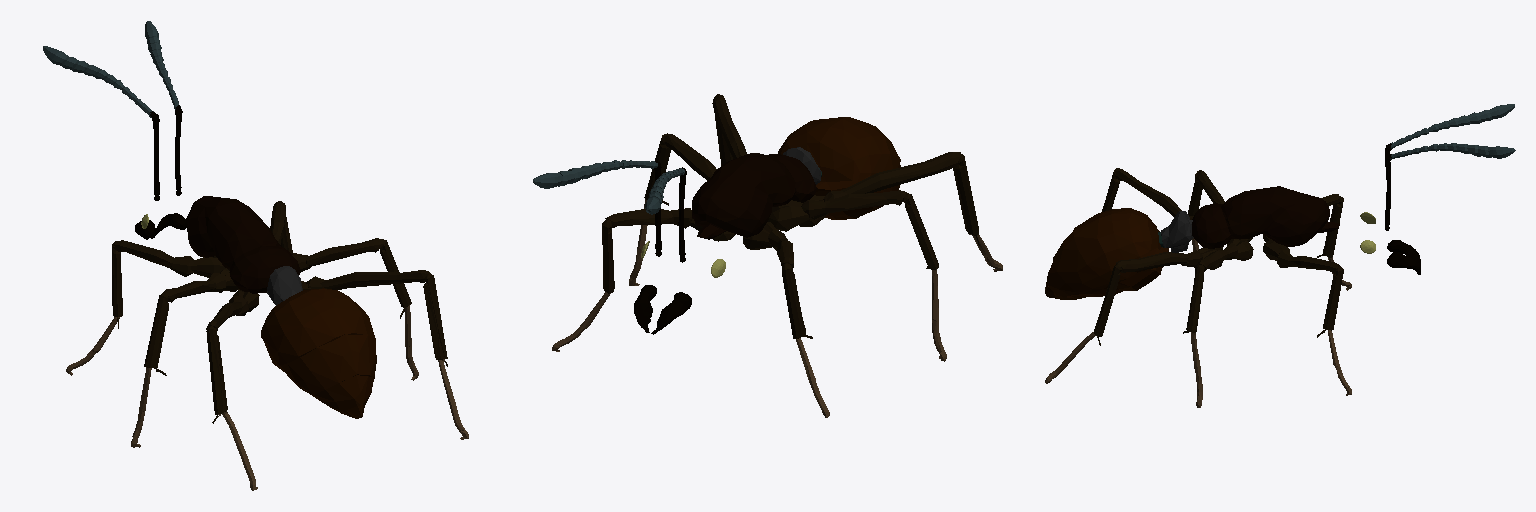
--- What the picture shows (computed from the rendered views, not written in the file) ---
The picture shows the robot from 3 angles, left to right: view 1: azimuth 30°, elevation 25°; view 2: azimuth 150°, elevation 25°; view 3: azimuth 270°, elevation 25°; orthographic projection.
Model ant with 44 links and 43 joints (18 revolute, 25 fixed), rooted at base_link, posed all joints at 0.
Visible links, largest first — view 1: gaster, thorax, femur_r_r, flagellum_l, tibia_r_l, tibia_r_r, tibia_m_l, petiole, femur_m_r, flagellum_r, femur_f_l, tibia_f_l (+3 smaller); view 2: thorax, gaster, femur_r_l, flagellum_r, femur_m_l, tibia_r_l, tibia_f_l, femur_r_r, femur_m_r, tibia_m_l, cox_m_l, femur_f_r (+6 smaller); view 3: gaster, thorax, flagellum_l, flagellum_r, petiole, femur_r_r, femur_r_l, tibia_r_r, tibia_m_r, tibia_f_r.
Boxes of the visible links, x1,y1,x2,y2 form: gaster: [261, 288, 376, 418]; thorax: [186, 196, 300, 293]; femur_r_r: [320, 270, 429, 289]; flagellum_l: [43, 46, 153, 117]; tibia_r_l: [206, 326, 227, 423]; tibia_r_r: [423, 273, 447, 366]; tibia_m_l: [144, 293, 169, 375]; petiole: [267, 266, 302, 305]; femur_m_r: [306, 238, 382, 265]; flagellum_r: [145, 21, 180, 109]; femur_f_l: [114, 240, 173, 267]; tibia_f_l: [112, 241, 122, 328]; thorax: [692, 153, 816, 239]; gaster: [778, 117, 900, 219]; femur_r_l: [841, 152, 960, 194]; flagellum_r: [533, 160, 657, 188]; femur_m_l: [824, 190, 906, 213]; tibia_r_l: [953, 154, 979, 245]; tibia_f_l: [782, 263, 812, 338]; femur_r_r: [712, 94, 746, 158]; femur_m_r: [665, 133, 716, 180]; tibia_m_l: [903, 193, 938, 269]; cox_m_l: [768, 200, 813, 231]; femur_f_r: [605, 209, 673, 227]; gaster: [1045, 208, 1168, 299]; thorax: [1192, 186, 1339, 248]; flagellum_l: [1391, 104, 1514, 148]; flagellum_r: [1390, 143, 1515, 159]; petiole: [1161, 211, 1193, 252]; femur_r_r: [1116, 252, 1188, 272]; femur_r_l: [1115, 168, 1181, 216]; tibia_r_r: [1094, 264, 1121, 345]; tibia_m_r: [1183, 265, 1204, 333]; tibia_f_r: [1317, 266, 1343, 337].
Size in the robot's own frame: 18.31 by 29.37 by 15.19 metres.
Meshes: 43 distinct files referenced, 42 mesh visuals loaded (42 Collada DAE); not drawn: 1 (reference not matched to a file when rendering).

The robot description file, URDF, robot "ant":
<?xml version="1.0" encoding="utf-8"?>
<!-- =================================================================================== -->
<!-- |    This document was autogenerated by xacro from ant.xacro                      | -->
<!-- |    EDITING THIS FILE BY HAND IS NOT RECOMMENDED                                 | -->
<!-- =================================================================================== -->
<robot name="ant" xmlns:xacro="http://www.ros.org/wiki/xacro">
  <!-- rviz wont work with these xacros unless given as urdf

  <xacro:include filename="$(find ant_description)/urdf/ant_main_body.xacro"/>

  <xacro:include filename="$(find ant_description)/urdf/ant_leg_l_f.xacro" />

  <xacro:include filename="$(find ant_description)/urdf/ant_leg_r_f.xacro" /> -->
  <link name="base_link"/>
  <joint name="ant_attachment" type="fixed">
    <parent link="base_link"/>
    <child link="thorax"/>
    <origin rpy="0 0 0" xyz="0 0 0"/>
  </joint>
  <!-- thorax link -->
  <link name="thorax">
    <collision>
      <origin rpy="0 0 0" xyz="0.02495771 4.745264 0.9420236"/>
      <geometry>
        <mesh filename="package://ant_description/meshes/thorax.dae"/>
      </geometry>
    </collision>
    <visual>
      <origin rpy="0 0 0" xyz="0.02495771 4.745264 0.9420236"/>
      <geometry>
        <mesh filename="package://ant_description/meshes/thorax.dae"/>
      </geometry>
    </visual>
    <inertial>
      <origin rpy="0 0 0" xyz="-0.04847949 5.0895386 1.30014761"/>
      <mass value="40"/>
      <inertia ixx="2.1574865398e+02" ixy="-1.5499513134e-01" ixz="-4.3375096425e-02" iyy="5.3331719151e+01" iyz="-1.7571679462e+01" izz="2.2341557491e+02"/>
    </inertial>
  </link>
  <!-- head link -->
  <link name="head">
    <collision>
      <origin rpy="0 0 0" xyz="8.69815e-4 11.79549 -0.03817248"/>
      <geometry>
        <mesh filename="package://ant_description/meshes/head.dae"/>
      </geometry>
    </collision>
    <visual>
      <origin rpy="0 0 0" xyz="8.69815e-4 11.79549 -0.03817248"/>
      <geometry>
        <mesh filename="package://ant_description/meshes/head.dae"/>
      </geometry>
    </visual>
    <inertial>
      <origin rpy="0 0 0" xyz="0.001631625 11.33051132 0.00357429"/>
      <mass value="30"/>
      <inertia ixx="6.1372709332e+01" ixy="-2.4209532812e-02" ixz="-2.7104785800e-04" iyy="6.3649281062e+01" iyz="7.1256139380e+00" izz="8.1137643143e+01"/>
    </inertial>
  </link>
  <joint name="thorax_head" type="fixed">
    <parent link="thorax"/>
    <child link="head"/>
  </joint>
  <!-- eye left link -->
  <link name="eye_l">
    <collision>
      <origin rpy="0 0 0" xyz="-2.086435 11.59313 0.2650509"/>
      <geometry>
        <mesh filename="package://ant_description/meshes/eye_l.dae"/>
      </geometry>
    </collision>
    <visual>
      <origin rpy="0 0 0" xyz="-2.086435 11.59313 0.2650509"/>
      <geometry>
        <mesh filename="package://ant_description/meshes/eye_l.dae"/>
      </geometry>
    </visual>
    <inertial>
      <origin rpy="0 0 0" xyz="-2.09985028 11.5658733 0.2633888"/>
      <mass value="0.1"/>
      <inertia ixx="8.1670536945e-03" ixy="-1.0827793204e-03" ixz="-6.1851114941e-04" iyy="4.3301748852e-03" iyz="1.0580506602e-03" izz="5.3558668918e-03"/>
    </inertial>
  </link>
  <joint name="head_eye_l" type="fixed">
    <parent link="head"/>
    <child link="eye_l"/>
  </joint>
  <!-- eye right link -->
  <link name="eye_r">
    <collision>
      <origin rpy="0 0 0" xyz="2.086435 11.59313 0.2650509"/>
      <geometry>
        <mesh filename="package://ant_description/meshes/eye_r.dae"/>
      </geometry>
    </collision>
    <visual>
      <origin rpy="0 0 0" xyz="2.086435 11.59313 0.2650509"/>
      <geometry>
        <mesh filename="package://ant_description/meshes/eye_r.dae"/>
      </geometry>
    </visual>
    <inertial>
      <origin rpy="0 0 0" xyz="2.09985028 11.5658733 0.2633888"/>
      <mass value="0.1"/>
      <inertia ixx="8.1670536945e-03" ixy="1.0827793204e-03" ixz="6.1851114941e-04" iyy="4.3301748852e-03" iyz="1.0580506602e-03" izz="5.3558668918e-03"/>
    </inertial>
  </link>
  <joint name="head_eye_r" type="fixed">
    <parent link="head"/>
    <child link="eye_r"/>
  </joint>
  <!-- mandible left link -->
  <link name="mandible_l">
    <collision>
      <origin rpy="0 0 0" xyz="-0.7011991 14.09823 -1.611525"/>
      <geometry>
        <mesh filename="package://ant_description/meshes/mandible_l.dae"/>
      </geometry>
    </collision>
    <visual>
      <origin rpy="0 0 0" xyz="-0.7011991 14.09823 -1.611525"/>
      <geometry>
        <mesh filename="package://ant_description/meshes/mandible_l.dae"/>
      </geometry>
    </visual>
    <inertial>
      <origin rpy="0 0 0" xyz="-0.86942116 13.87568539 -1.37582832"/>
      <mass value="2"/>
      <inertia ixx="7.8456193792e-01" ixy="-1.4599019459e-01" ixz="7.6754512807e-02" iyy="3.4250524949e-01" iyz="2.4175056959e-01" izz="6.9996140900e-01"/>
    </inertial>
  </link>
  <joint name="head_mandible_l" type="fixed">
    <parent link="head"/>
    <child link="mandible_l"/>
  </joint>
  <!-- mandible right link -->
  <link name="mandible_r">
    <collision>
      <origin rpy="0 0 0" xyz="0.6943221 14.09485 -1.611031"/>
      <geometry>
        <mesh filename="package://ant_description/meshes/mandible_r.dae"/>
      </geometry>
    </collision>
    <visual>
      <origin rpy="0 0 0" xyz="0.6943221 14.09485 -1.611031"/>
      <geometry>
        <mesh filename="package://ant_description/meshes/mandible_r.dae"/>
      </geometry>
    </visual>
    <inertial>
      <origin rpy="0 0 0" xyz="0.86872115 13.88107856 -1.37675615"/>
      <mass value="2"/>
      <inertia ixx="7.8798881204e-01" ixy="1.4663016648e-01" ixz="-7.7675343261e-02" iyy="3.4399652201e-01" iyz="2.4333456699e-01" izz="7.0252290959e-01"/>
    </inertial>
  </link>
  <joint name="head_mandible_r" type="fixed">
    <parent link="head"/>
    <child link="mandible_r"/>
  </joint>
  <!-- scape left link -->
  <link name="scape_l">
    <collision>
      <origin rpy="0 0 0" xyz="-0.7057881 12.91887 2.897474"/>
      <geometry>
        <mesh filename="package://ant_description/meshes/scape_l.dae"/>
      </geometry>
    </collision>
    <visual>
      <origin rpy="0 0 0" xyz="-0.7057881 12.91887 2.897474"/>
      <geometry>
        <mesh filename="package://ant_description/meshes/scape_l.dae"/>
      </geometry>
    </visual>
    <inertial>
      <origin rpy="0 0 0" xyz="-0.6883985 12.92029373 3.50715658"/>
      <mass value="1"/>
      <inertia ixx="2.5604631038e+00" ixy="6.4000983445e-05" ixz="3.2063305260e-02" iyy="2.5604688552e+00" iyz="-1.8403728408e-02" izz="1.2729953144e-02"/>
    </inertial>
  </link>
  <joint name="head_scape_l" type="fixed">
    <parent link="head"/>
    <child link="scape_l"/>
  </joint>
  <!-- scape right link -->
  <link name="scape_r">
    <collision>
      <origin rpy="0 0 0" xyz="0.7057881 12.91887 2.897474"/>
      <geometry>
        <mesh filename="package://ant_description/meshes/scape_r.dae"/>
      </geometry>
    </collision>
    <visual>
      <origin rpy="0 0 0" xyz="0.7057881 12.91887 2.897474"/>
      <geometry>
        <mesh filename="package://ant_description/meshes/scape_r.dae"/>
      </geometry>
    </visual>
    <inertial>
      <origin rpy="0 0 0" xyz="0.6883985 12.92029373 3.50715658"/>
      <mass value="1"/>
      <inertia ixx="2.5604631038e+00" ixy="-6.4000983445e-05" ixz="-3.2063305260e-02" iyy="2.5604688552e+00" iyz="-1.8403728408e-02" izz="1.2729953144e-02"/>
    </inertial>
  </link>
  <joint name="head_scape_r" type="fixed">
    <parent link="head"/>
    <child link="scape_r"/>
  </joint>
  <!-- flagellum left link -->
  <link name="flagellum_l">
    <collision>
      <origin rpy="0 0 0" xyz="-1.797092 16.61842 6.703302"/>
      <geometry>
        <mesh filename="package://ant_description/meshes/flagellum_l.dae"/>
      </geometry>
    </collision>
    <visual>
      <origin rpy="0 0 0" xyz="-1.797092 16.61842 6.703302"/>
      <geometry>
        <mesh filename="package://ant_description/meshes/flagellum_l.dae"/>
      </geometry>
    </visual>
    <inertial>
      <origin rpy="0 0 0" xyz="-2.20728987 17.81900304 6.88739471"/>
      <mass value="1"/>
      <inertia ixx="3.4224216162e+00" ixy="1.1857649365e+00" ixz="1.6013126420e-01" iyy="5.5349493096e-01" iyz="-4.6648290182e-01" izz="3.7783553220e+00"/>
    </inertial>
  </link>
  <joint name="scape_flagellum_l" type="fixed">
    <parent link="scape_l"/>
    <child link="flagellum_l"/>
  </joint>
  <!-- flagellum right link -->
  <link name="flagellum_r">
    <collision>
      <origin rpy="0 0 0" xyz="1.797092 16.61842 6.703302"/>
      <geometry>
        <mesh filename="package://ant_description/meshes/flagellum_r.dae"/>
      </geometry>
    </collision>
    <visual>
      <origin rpy="0 0 0" xyz="1.797092 16.61842 6.703302"/>
      <geometry>
        <mesh filename="package://ant_description/meshes/flagellum_r.dae"/>
      </geometry>
    </visual>
    <inertial>
      <origin rpy="0 0 0" xyz="2.20728987 17.81900304 6.88739471"/>
      <mass value="1"/>
      <inertia ixx="3.4224216162e+00" ixy="-1.1857649365e+00" ixz="-1.6013126420e-01" iyy="5.5349493096e-01" iyz="-4.6648290182e-01" izz="3.7783553220e+00"/>
    </inertial>
  </link>
  <joint name="scape_flagellum_r" type="fixed">
    <parent link="scape_r"/>
    <child link="flagellum_r"/>
  </joint>
  <!-- petiole link -->
  <link name="petiole">
    <collision>
      <origin rpy="0 0 0" xyz="0.01740854 0.07322531 0.2697668"/>
      <geometry>
        <mesh filename="package://ant_description/meshes/petiole.dae"/>
      </geometry>
    </collision>
    <visual>
      <origin rpy="0 0 0" xyz="0.01740854 0.07322531 0.2697668"/>
      <geometry>
        <mesh filename="package://ant_description/meshes/petiole.dae"/>
      </geometry>
    </visual>
    <inertial>
      <origin rpy="0 0 0" xyz="0.00561879 0.00296973 0.28649062"/>
      <mass value="5"/>
      <inertia ixx="2.7897944003e+00" ixy="3.5781084256e-03" ixz="-3.2402220006e-03" iyy="2.5550380430e+00" iyz="-4.0086618959e-01" izz="2.0464923935e+00"/>
    </inertial>
  </link>
  <joint name="thorax_petiole" type="fixed">
    <parent link="thorax"/>
    <child link="petiole"/>
  </joint>
  <!-- node link -->
  <link name="node">
    <collision>
      <origin rpy="0 0 0" xyz="-0.006898105 -1.105468 -0.2202131"/>
      <geometry>
        <mesh filename="package://ant_description/meshes/node.dae"/>
      </geometry>
    </collision>
    <visual>
      <origin rpy="0 0 0" xyz="-0.006898105 -1.105468 -0.2202131"/>
      <geometry>
        <mesh filename="package://ant_description/meshes/node.dae"/>
      </geometry>
    </visual>
    <inertial>
      <origin rpy="0 0 0" xyz="-0.011776415 -1.10854547 -0.22971905"/>
      <mass value="2"/>
      <inertia ixx="3.5458615208e-01" ixy="-4.6808282018e-04" ixz="2.2591796230e-03" iyy="2.1462833835e-01" iyz="-6.3565631669e-04" izz="3.8425372799e-01"/>
    </inertial>
  </link>
  <joint name="petiole_node" type="fixed">
    <parent link="petiole"/>
    <child link="node"/>
  </joint>
  <!-- gaster link -->
  <link name="gaster">
    <collision>
      <origin rpy="0 0 0" xyz="-0.003080308 -4.342331 -1.633749"/>
      <geometry>
        <mesh filename="package://ant_description/meshes/gaster.dae"/>
      </geometry>
    </collision>
    <visual>
      <origin rpy="0 0 0" xyz="-0.003080308 -4.342331 -1.633749"/>
      <geometry>
        <mesh filename="package://ant_description/meshes/gaster.dae"/>
      </geometry>
    </visual>
    <inertial>
      <origin rpy="0 0 0" xyz="-0.007536868 -4.24358572 -1.27920505"/>
      <mass value="35"/>
        CHANGED to 35 from 50
      
      <inertia ixx="1.5049922562e+02" ixy="3.3508063294e-03" ixz="1.7003903286e-02" iyy="1.1459202296e+02" iyz="-2.2113997039e+01" izz="1.5439307293e+02"/>
    </inertial>
  </link>
  <joint name="node_gaster" type="fixed">
    <parent link="node"/>
    <child link="gaster"/>
  </joint>
  <!-- cox front left link -->
  <link name="cox_f_l">
    <collision>
      <origin rpy="0 0 0" xyz="-0.5 0 0"/>
      <geometry>
        <mesh filename="package://ant_description/meshes/cox_f_l.dae"/>
      </geometry>
    </collision>
    <visual>
      <origin rpy="0 0 0" xyz="-0.5 0 0"/>
      <geometry>
        <mesh filename="package://ant_description/meshes/cox_f_l.dae"/>
      </geometry>
    </visual>
    <inertial>
      <origin rpy="0 0 0" xyz="-0.48765049  1.6566350000e-02 -1.5535011000e-01"/>
      <mass value="3"/>
      <inertia ixx="7.5768846297e-01" ixy="1.7005788603e-01" ixz="5.7852710942e-03" iyy="1.1727972097e+00" iyz="5.6909853774e-02" izz="1.2224152912e+00"/>
    </inertial>
  </link>
  <joint name="j_1_f_l" type="revolute">
    <parent link="thorax"/>
    <child link="cox_f_l"/>
    <origin rpy="0 0 0" xyz="-0.672313 5.942684 -0.2417362"/>
    <axis xyz="0 0 1"/>
    <limit effort="10000" lower="-0.4" upper="0.6" velocity="10000"/>
    <dynamics friction="500"/>
  </joint>
  <!-- trochanter front left link -->
  <link name="trochanter_f_l">
    <collision>
      <origin rpy="0 0 0" xyz="-0.6 0 0"/>
      <geometry>
        <mesh filename="package://ant_description/meshes/trochanter_f_l.dae"/>
      </geometry>
    </collision>
    <visual>
      <origin rpy="0 0 0" xyz="-0.6 0 0"/>
      <geometry>
        <mesh filename="package://ant_description/meshes/trochanter_f_l.dae"/>
      </geometry>
    </visual>
    <inertial>
      <origin rpy="0 0 0" xyz="-0.77043483 -3.2823050000e-02  4.9396100000e-03"/>
      <mass value="1"/>
      <inertia ixx="1.1496440267e-01" ixy="3.4858491007e-02" ixz="1.4360769641e-03" iyy="1.4220481517e-01" iyz="-1.1846910889e-02" izz="1.5255737899e-01"/>
    </inertial>
  </link>
  <joint name="j_2_f_l" type="revolute">
    <parent link="cox_f_l"/>
    <child link="trochanter_f_l"/>
    <origin rpy="0 0 0" xyz="-1.265769 0.454099 0.0176258"/>
    <axis xyz="0 1 0"/>
    <limit effort="10000" lower="0" upper="0.6" velocity="10000"/>
    <dynamics friction="500"/>
  </joint>
  <!-- femur front left link -->
  <link name="femur_f_l">
    <collision>
      <origin rpy="0 0 0" xyz="-1.949923 1.783526 0.32062271"/>
      <geometry>
        <mesh filename="package://ant_description/meshes/femur_f_l.dae"/>
      </geometry>
    </collision>
    <visual>
      <origin rpy="0 0 0" xyz="-1.949923 1.783526 0.32062271"/>
      <geometry>
        <mesh filename="package://ant_description/meshes/femur_f_l.dae"/>
      </geometry>
    </visual>
    <inertial>
      <origin rpy="0 0 0" xyz="-0.5579356 -1.0128977000e-01  2.5225760000e-02"/>
      <mass value="5"/>
      <inertia ixx="3.6197642457e+00" ixy="2.1775364163e+00" ixz="3.8242520797e-01" iyy="1.8778697845e+00" iyz="-5.2415364462e-01" izz="5.0117853596e+00"/>
    </inertial>
  </link>
  <joint name="trochanter_femur_f_l" type="fixed">
    <parent link="trochanter_f_l"/>
    <child link="femur_f_l"/>
  </joint>
  <!-- tibia front left link -->
  <link name="tibia_f_l">
    <collision>
      <origin rpy="0 0 -0.523599" xyz="0 0 -1.3"/>
      <geometry>
        <mesh filename="package://ant_description/meshes/tibia_f_l.dae"/>
      </geometry>
    </collision>
    <visual>
      <origin rpy="0 0 -0.523599" xyz="0 0 -1.3"/>
      <geometry>
        <mesh filename="package://ant_description/meshes/tibia_f_l.dae"/>
      </geometry>
    </visual>
    <inertial>
      <origin rpy="0 0 -0.523599" xyz="-3.7722210000e-02 -6.1037620000e-02 -1.79721931"/>
      <mass value="4"/>
      <inertia ixx="5.6769505167e+00" ixy="-9.1392209980e-02" ixz="-4.1384680225e-01" iyy="5.5128989027e+00" iyz="-9.6529489518e-01" izz="3.8081446228e-01"/>
    </inertial>
  </link>
  <joint name="j_3_f_l" type="revolute">
    <parent link="femur_f_l"/>
    <child link="tibia_f_l"/>
    <origin rpy="0 0 0.523599" xyz="-3.067233 2.99855 0.2249814"/>
    <limit effort="10000" lower="0" upper="0.6" velocity="10000"/>
    <dynamics friction="500"/>
  </joint>
  <!-- tarsus front left link -->
  <link name="tarsus_f_l">
    <collision>
      <origin rpy="0 0 -0.523599" xyz="-1.164141 1.274724 -5.899937"/>
      <geometry>
        <mesh filename="package://ant_description/meshes/tarsus_f_l.dae"/>
      </geometry>
    </collision>
    <visual>
      <origin rpy="0 0 -0.523599" xyz="-1.164141 1.274724 -5.899937"/>
      <geometry>
        <mesh filename="package://ant_description/meshes/tarsus_f_l.dae"/>
      </geometry>
    </visual>
    <inertial>
      <origin rpy="0 0 -0.523599" xyz="0.197988 -0.332424 -0.92324425"/>
      <mass value="2"/>
      <inertia ixx="2.0383412574e+00" ixy="5.0790120060e-01" ixz="-1.2739759948e+00" iyy="2.7268712920e+00" iyz="6.6243787205e-01" izz="1.2557246830e+00"/>
    </inertial>
  </link>
  <joint name="tibia_tarsus_f_l" type="fixed">
    <parent link="tibia_f_l"/>
    <child link="tarsus_f_l"/>
  </joint>
  <!-- cox front right link -->
  <link name="cox_f_r">
    <collision>
      <origin rpy="0 0 0" xyz="0.5 0 0"/>
      <geometry>
        <mesh filename="package://ant_description/meshes/cox_f_r.dae"/>
      </geometry>
    </collision>
    <visual>
      <origin rpy="0 0 0" xyz="0.5 0 0"/>
      <geometry>
        <mesh filename="package://ant_description/meshes/cox_f_r.dae"/>
      </geometry>
    </visual>
    <inertial>
      <origin rpy="0 0 0" xyz="0.57905302  5.1128630000e-02 -1.3051884000e-01"/>
      <mass value="3"/>
      <inertia ixx="7.5656651420e-01" ixy="-1.6078972639e-01" ixz="2.2975131314e-02" iyy="1.1275039835e+00" iyz="5.7195192991e-02" izz="1.1844327222e+00"/>
    </inertial>
  </link>
  <joint name="j_1_f_r" type="revolute">
    <parent link="thorax"/>
    <child link="cox_f_r"/>
    <origin rpy="0 0 0" xyz="0.69727071 5.942684 -0.2417362"/>
    <axis xyz="0 0 1"/>
    <limit effort="10000" lower="-0.6" upper="0.4" velocity="10000"/>
    <dynamics friction="500"/>
  </joint>
  <!-- trochanter front right link -->
  <link name="trochanter_f_r">
    <collision>
      <origin rpy="0 0 0" xyz="0.6 0 0"/>
      <geometry>
        <mesh filename="package://ant_description/meshes/trochanter_f_r.dae"/>
      </geometry>
    </collision>
    <visual>
      <origin rpy="0 0 0" xyz="0.6 0 0"/>
      <geometry>
        <mesh filename="package://ant_description/meshes/trochanter_f_r.dae"/>
      </geometry>
    </visual>
    <inertial>
      <origin rpy="0 0 0" xyz="0.538491 -5.1388720000e-02 -1.3824200000e-02"/>
      <mass value="1"/>
      <inertia ixx="1.0497057613e-01" ixy="-3.6631126790e-02" ixz="-3.9228430044e-03" iyy="1.4323023665e-01" iyz="-2.1808929210e-02" izz="1.5518180277e-01"/>
    </inertial>
  </link>
  <joint name="j_2_f_r" type="revolute">
    <parent link="cox_f_r"/>
    <child link="trochanter_f_r"/>
    <origin rpy="0 0 0" xyz="1.59727071 0.454099 0.0176258"/>
    <axis xyz="0 1 0"/>
    <limit effort="10000" lower="-0.6" upper="0" velocity="10000"/>
    <dynamics friction="500"/>
  </joint>
  <!-- femur front right link -->
  <link name="femur_f_r">
    <collision>
      <origin rpy="0 0 0" xyz="1.949923 1.783526 0.32062271"/>
      <geometry>
        <mesh filename="package://ant_description/meshes/femur_f_r.dae"/>
      </geometry>
    </collision>
    <visual>
      <origin rpy="0 0 0" xyz="1.949923 1.783526 0.32062271"/>
      <geometry>
        <mesh filename="package://ant_description/meshes/femur_f_r.dae"/>
      </geometry>
    </visual>
    <inertial>
      <origin rpy="0 0 0" xyz="0.58560998 -5.2536510000e-02  3.3790940000e-02"/>
      <mass value="5"/>
      <inertia ixx="3.5605818097e+00" ixy="-2.1346250176e+00" ixz="-4.1254699156e-01" iyy="1.8632358937e+00" iyz="-5.6765821955e-01" izz="4.9254199566e+00"/>
    </inertial>
  </link>
  <joint name="trochanter_femur_f_r" type="fixed">
    <parent link="trochanter_f_r"/>
    <child link="femur_f_r"/>
  </joint>
  <!-- tibia front right link -->
  <link name="tibia_f_r">
    <collision>
      <origin rpy="0 0 0.523599" xyz="0 0 -1.3"/>
      <geometry>
        <mesh filename="package://ant_description/meshes/tibia_f_r.dae"/>
      </geometry>
    </collision>
    <visual>
      <origin rpy="0 0 0.523599" xyz="0 0 -1.3"/>
      <geometry>
        <mesh filename="package://ant_description/meshes/tibia_f_r.dae"/>
      </geometry>
    </visual>
    <inertial>
      <origin rpy="0 0 0.523599" xyz="4.1651520000e-02 -5.6355840000e-02 -1.77705898"/>
      <mass value="4"/>
      <inertia ixx="5.5697936408e+00" ixy="8.9994538190e-02" ixz="4.0634984476e-01" iyy="5.4089508408e+00" iyz="-9.4506940495e-01" izz="3.7695625536e-01"/>
    </inertial>
  </link>
  <joint name="j_3_f_r" type="revolute">
    <parent link="femur_f_r"/>
    <child link="tibia_f_r"/>
    <origin rpy="0 0 -0.523599" xyz="3.067233 2.99855 0.2249814"/>
    <axis xyz="1 0 0"/>
    <limit effort="10000" lower="0" upper="0.6" velocity="10000"/>
    <dynamics friction="500"/>
  </joint>
  <!-- tarsus front right link -->
  <link name="tarsus_f_r">
    <collision>
      <origin rpy="0 0 0.523599" xyz="1.164141 1.274724 -5.899937"/>
      <geometry>
        <mesh filename="package://ant_description/meshes/tarsus_f_r.dae"/>
      </geometry>
    </collision>
    <visual>
      <origin rpy="0 0 0.523599" xyz="1.164141 1.274724 -5.899937"/>
      <geometry>
        <mesh filename="package://ant_description/meshes/tarsus_f_r.dae"/>
      </geometry>
    </visual>
    <inertial>
      <origin rpy="0 0 0.523599" xyz="-0.201113 -0.34006 -0.916733"/>
      <mass value="2"/>
      <inertia ixx="2.0264224199e+00" ixy="-5.0324785226e-01" ixz="1.2654551473e+00" iyy="2.7097661696e+00" iyz="6.5752556549e-01" izz="1.2447538164e+00"/>
    </inertial>
  </link>
  <joint name="tibia_tarsus_f_r" type="fixed">
    <parent link="tibia_f_r"/>
    <child link="tarsus_f_r"/>
  </joint>
  <!-- cox middle left link -->
  <link name="cox_m_l">
    <collision>
      <origin rpy="0 0 0" xyz="-0.5 0 0"/>
      <geometry>
        <mesh filename="package://ant_description/meshes/cox_m_l.dae"/>
      </geometry>
    </collision>
    <visual>
      <origin rpy="0 0 0" xyz="-0.5 0 0"/>
      <geometry>
        <mesh filename="package://ant_description/meshes/cox_m_l.dae"/>
      </geometry>
    </visual>
    <inertial>
      <origin rpy="0 0 0" xyz="-0.51716983  1.1915810000e-02 -1.3921484000e-01"/>
      <mass value="3"/>
      <inertia ixx="7.8260573866e-01" ixy="-1.9846590636e-01" ixz="-2.0231143554e-03" iyy="1.1383764760e+00" iyz="6.4265649619e-02" izz="1.2384929781e+00"/>
    </inertial>
  </link>
  <joint name="j_1_m_l" type="revolute">
    <parent link="thorax"/>
    <child link="cox_m_l"/>
    <origin rpy="0 0 0" xyz="-0.87320329 3.654325 -0.04402315"/>
    <axis xyz="0 0 1"/>
    <limit effort="10000" lower="-0.65" upper="0.15" velocity="10000"/>
    <dynamics friction="500"/>
  </joint>
  <!-- trochanter middle left link -->
  <link name="trochanter_m_l">
    <collision>
      <origin rpy="0 0 0" xyz="-0.6 0 0"/>
      <geometry>
        <mesh filename="package://ant_description/meshes/trochanter_m_l.dae"/>
      </geometry>
    </collision>
    <visual>
      <origin rpy="0 0 0" xyz="-0.6 0 0"/>
      <geometry>
        <mesh filename="package://ant_description/meshes/trochanter_m_l.dae"/>
      </geometry>
    </visual>
    <inertial>
      <origin rpy="0 0 0" xyz="-0.55512966  1.4158560000e-02 -7.3947500000e-03"/>
      <mass value="1"/>
      <inertia ixx="1.1101995697e-01" ixy="-3.3613121204e-02" ixz="1.1913985257e-02" iyy="1.4858710622e-01" iyz="-4.0038853935e-03" izz="1.5366513364e-01"/>
    </inertial>
  </link>
  <joint name="j_2_m_l" type="revolute">
    <parent link="cox_m_l"/>
    <child link="trochanter_m_l"/>
    <origin rpy="0 0 0" xyz="-1.092786 -0.667436 0.15847855"/>
    <axis xyz="0 1 0"/>
    <limit effort="10000" lower="0" upper="0.6" velocity="10000"/>
    <dynamics friction="500"/>
  </joint>
  <!-- femur middle left link -->
  <link name="femur_m_l">
    <collision>
      <origin rpy="0 0 0" xyz="-3.031796 -1.037177 0.5874824"/>
      <geometry>
        <mesh filename="package://ant_description/meshes/femur_m_l.dae"/>
      </geometry>
    </collision>
    <visual>
      <origin rpy="0 0 0" xyz="-3.031796 -1.037177 0.5874824"/>
      <geometry>
        <mesh filename="package://ant_description/meshes/femur_m_l.dae"/>
      </geometry>
    </visual>
    <inertial>
      <origin rpy="0 0 0" xyz="-0.28026106 1.1244939000e-01 -6.3924120000e-02"/>
      <mass value="5"/>
      <inertia ixx="1.5111447845e+00" ixy="-2.2827053904e+00" ixz="1.2224953298e+00" iyy="6.0794410410e+00" iyz="5.2271625542e-01" izz="6.7716874529e+00"/>
    </inertial>
  </link>
  <joint name="trochanter_femur_m_l" type="fixed">
    <parent link="trochanter_m_l"/>
    <child link="femur_m_l"/>
  </joint>
  <!-- tibia middle left link -->
  <link name="tibia_m_l">
    <collision>
      <origin rpy="0 0 -1.91986" xyz="0.136808 0.375877 -1.3"/>
      <geometry>
        <mesh filename="package://ant_description/meshes/tibia_m_l.dae"/>
      </geometry>
    </collision>
    <visual>
      <origin rpy="0 0 -1.91986" xyz="0.136808 0.375877 -1.3"/>
      <geometry>
        <mesh filename="package://ant_description/meshes/tibia_m_l.dae"/>
      </geometry>
    </visual>
    <inertial>
      <origin rpy="0 0 -1.91986" xyz="0.122652 0.593339 -1.79632004"/>
      <mass value="4"/>
      <inertia ixx="5.1136973632e+00" ixy="-2.1964789642e-01" ixz="-1.5570160091e+00" iyy="5.5119473180e+00" iyz="-7.4216810283e-01" izz="7.9706175728e-01"/>
    </inertial>
  </link>
  <joint name="j_3_m_l" type="revolute">
    <parent link="femur_m_l"/>
    <child link="tibia_m_l"/>
    <origin rpy="0 0 1.91986" xyz="-4.794432 -1.923477 0.8121009"/>
    <axis xyz="1 0 0"/>
    <limit effort="10000" lower="0" upper="0.6" velocity="10000"/>
    <dynamics friction="500"/>
  </joint>
  <!-- tarsus middle left link TODO repair mesh and inertia -->
  <link name="tarsus_m_l">
    <collision>
      <origin rpy="0 0 -1.91986" xyz="0.556888 1.563018 -6.5016463"/>
      <geometry>
        <mesh filename="package://ant_description/meshes/tarsus_m_l.dae"/>
      </geometry>
    </collision>
    <visual>
      <origin rpy="0 0 -1.91986" xyz="0.556888 1.563018 -6.5016463"/>
      <geometry>
        <mesh filename="package://ant_description/meshes/tarsus_m_l.dae"/>
      </geometry>
    </visual>
    <!--<inertial>
      <origin xyz="0.197988 -0.332424 -0.92324425" rpy="0 0 -1.91986"/>
      <mass value="2"/>
      <inertia
        ixx="2.6814907591e+00" 
        ixy="3.5543530919e-02" 
        ixz="-4.3935904718e-01"
        iyy="2.7333997515e+00" 
        iyz="2.4487690192e-01"
        izz="1.3475215922e-01"/>
    </inertial> -->
  </link>
  <joint name="tibia_tarsus_m_l" type="fixed">
    <parent link="tibia_m_l"/>
    <child link="tarsus_m_l"/>
  </joint>
  <!-- cox middle right link -->
  <link name="cox_m_r">
    <collision>
      <origin rpy="0 0 0" xyz="0.5 0 0"/>
      <geometry>
        <mesh filename="package://ant_description/meshes/cox_m_r.dae"/>
      </geometry>
    </collision>
    <visual>
      <origin rpy="0 0 0" xyz="0.5 0 0"/>
      <geometry>
        <mesh filename="package://ant_description/meshes/cox_m_r.dae"/>
      </geometry>
    </visual>
    <inertial>
      <origin rpy="0 0 0" xyz="0.51717  1.1915810000e-02 -1.3921484000e-01"/>
      <mass value="3"/>
      <inertia ixx="7.8260573866e-01" ixy="1.9846590636e-01" ixz="2.0231143554e-03" iyy="1.1383764760e+00" iyz="6.4265649619e-02" izz="1.2384929781e+00"/>
    </inertial>
  </link>
  <joint name="j_1_m_r" type="revolute">
    <parent link="thorax"/>
    <child link="cox_m_r"/>
    <origin rpy="0 0 0" xyz="0.87320329 3.654325 -0.04402315"/>
    <axis xyz="0 0 1"/>
    <limit effort="10000" lower="-0.15" upper="0.65" velocity="10000"/>
    <dynamics friction="500"/>
  </joint>
  <!-- trochanter middle right link -->
  <link name="trochanter_m_r">
    <collision>
      <origin rpy="0 0 0" xyz="0.6 0 0"/>
      <geometry>
        <mesh filename="package://ant_description/meshes/trochanter_m_r.dae"/>
      </geometry>
    </collision>
    <visual>
      <origin rpy="0 0 0" xyz="0.6 0 0"/>
      <geometry>
        <mesh filename="package://ant_description/meshes/trochanter_m_r.dae"/>
      </geometry>
    </visual>
    <inertial>
      <origin rpy="0 0 0" xyz="0.54487034  1.4158560000e-02 -7.3947500000e-03"/>
      <mass value="1"/>
      <inertia ixx="1.1102254555e-01" ixy="3.3611787480e-02" ixz="-1.1913985257e-02" iyy="1.4858710622e-01" iyz="-4.0038853935e-03" izz="1.5366513364e-01"/>
    </inertial>
  </link>
  <joint name="j_2_m_r" type="revolute">
    <parent link="cox_m_r"/>
    <child link="trochanter_m_r"/>
    <origin rpy="0 0 0" xyz="1.092786 -0.667436 0.15847855"/>
    <axis xyz="0 1 0"/>
    <limit effort="10000" lower="-0.6" upper="0" velocity="10000"/>
    <dynamics friction="500"/>
  </joint>
  <!-- femur middle right link -->
  <link name="femur_m_r">
    <collision>
      <origin rpy="0 0 0" xyz="3.031796 -1.037177 0.5874824"/>
      <geometry>
        <mesh filename="package://ant_description/meshes/femur_m_r.dae"/>
      </geometry>
    </collision>
    <visual>
      <origin rpy="0 0 0" xyz="3.031796 -1.037177 0.5874824"/>
      <geometry>
        <mesh filename="package://ant_description/meshes/femur_m_r.dae"/>
      </geometry>
    </visual>
    <inertial>
      <origin rpy="0 0 0" xyz="0.28026106 1.1244939000e-01 -6.3924120000e-02"/>
      <mass value="5"/>
      <inertia ixx="1.5162198048e+00" ixy="2.2819992907e+00" ixz="-1.2230956433e+00" iyy="6.0647092751e+00" iyz="5.2541112821e-01" izz="6.7587161883e+00"/>
    </inertial>
  </link>
  <joint name="trochanter_femur_m_r" type="fixed">
    <parent link="trochanter_m_r"/>
    <child link="femur_m_r"/>
  </joint>
  <!-- tibia middle right link -->
  <link name="tibia_m_r">
    <collision>
      <origin rpy="0 0 1.91986" xyz="-0.136808 0.375877 -1.3"/>
      <geometry>
        <mesh filename="package://ant_description/meshes/tibia_m_r.dae"/>
      </geometry>
    </collision>
    <visual>
      <origin rpy="0 0 1.91986" xyz="-0.136808 0.375877 -1.3"/>
      <geometry>
        <mesh filename="package://ant_description/meshes/tibia_m_r.dae"/>
      </geometry>
    </visual>
    <inertial>
      <origin rpy="0 0 1.91986" xyz="-0.122652 0.593339 -1.79632004"/>
      <mass value="4"/>
      <inertia ixx="5.1136973632e+00" ixy="2.1964789642e-01" ixz="1.5570160091e+00" iyy="5.5119473180e+00" iyz="-7.4216810283e-01" izz="7.9706175728e-01"/>
    </inertial>
  </link>
  <joint name="j_3_m_r" type="revolute">
    <parent link="femur_m_r"/>
    <child link="tibia_m_r"/>
    <origin rpy="0 0 -1.91986" xyz="4.794432 -1.923477 0.8121009"/>
    <axis xyz="1 0 0"/>
    <limit effort="10000" lower="0" upper="0.6" velocity="10000"/>
    <dynamics friction="500"/>
  </joint>
  <!-- tarsus middle rightt link TODO repair mesh and inertia -->
  <link name="tarsus_m_r">
    <collision>
      <origin rpy="0 0 1.91986" xyz="-0.556888 1.563018 -6.5016463"/>
      <geometry>
        <mesh filename="package://ant_description/meshes/tarsus_m_r.dae"/>
      </geometry>
    </collision>
    <visual>
      <origin rpy="0 0 1.91986" xyz="-0.556888 1.563018 -6.5016463"/>
      <geometry>
        <mesh filename="package://ant_description/meshes/tarsus_m_r.dae"/>
      </geometry>
    </visual>
    <!--<inertial>
      <origin xyz="0.197988 -0.332424 -0.92324425" rpy="0 0 -1.91986"/>
      <mass value="2"/>
      <inertia
        ixx="2.6814907591e+00" 
        ixy="3.5543530919e-02" 
        ixz="-4.3935904718e-01"
        iyy="2.7333997515e+00" 
        iyz="2.4487690192e-01"
        izz="1.3475215922e-01"/>
    </inertial> -->
  </link>
  <joint name="tibia_tarsus_m_r" type="fixed">
    <parent link="tibia_m_r"/>
    <child link="tarsus_m_r"/>
  </joint>
  <!-- cox rear left link -->
  <link name="cox_r_l">
    <collision>
      <origin rpy="0 0 0" xyz="-0.5 -0.5 0"/>
      <geometry>
        <mesh filename="package://ant_description/meshes/cox_r_l.dae"/>
      </geometry>
    </collision>
    <visual>
      <origin rpy="0 0 0" xyz="-0.5 -0.5 0"/>
      <geometry>
        <mesh filename="package://ant_description/meshes/cox_r_l.dae"/>
      </geometry>
    </visual>
    <inertial>
      <origin rpy="0 0 0" xyz="-0.54993608 -0.55808213 -1.8706305000e-01"/>
      <mass value="3"/>
      <inertia ixx="9.7279348468e-01" ixy="-2.4893216773e-01" ixz="-4.3977186027e-02" iyy="8.8979866554e-01" iyz="3.9916256869e-02" izz="1.1924646641e+00"/>
    </inertial>
  </link>
  <joint name="j_1_r_l" type="revolute">
    <parent link="thorax"/>
    <child link="cox_r_l"/>
    <origin rpy="0 0 0" xyz="-1.004655 2.310507 -0.4687623 "/>
    <axis xyz="0 0 1"/>
    <limit effort="10000" lower="-0.4" upper="0.25" velocity="10000"/>
    <dynamics friction="500"/>
  </joint>
  <!-- trochanter rear left link -->
  <link name="trochanter_r_l">
    <collision>
      <origin rpy="0 0 0" xyz="-0.5 0 0"/>
      <geometry>
        <mesh filename="package://ant_description/meshes/trochanter_r_l.dae"/>
      </geometry>
    </collision>
    <visual>
      <origin rpy="0 0 0" xyz="-0.5 0 0"/>
      <geometry>
        <mesh filename="package://ant_description/meshes/trochanter_r_l.dae"/>
      </geometry>
    </visual>
    <inertial>
      <origin rpy="0 0 0" xyz="-0.42571826  1.0669486000e-01 -3.1070070000e-02"/>
      <mass value="1"/>
      <inertia ixx="1.5073148763e-01" ixy="-3.8447467658e-02" ixz="1.2660324006e-02" iyy="1.2943070910e-01" iyz="3.4239571588e-04" izz="1.6587704941e-01"/>
    </inertial>
  </link>
  <joint name="j_2_r_l" type="revolute">
    <parent link="cox_r_l"/>
    <child link="trochanter_r_l"/>
    <origin rpy="0 0 0" xyz="-0.955945 -1.6218341 0.1198297"/>
    <axis xyz="0 1 0"/>
    <limit effort="10000" lower="-0.15" upper="0.6" velocity="10000"/>
    <dynamics friction="500"/>
  </joint>
  <!-- femur rear left link -->
  <link name="femur_r_l">
    <collision>
      <origin rpy="0 0 0" xyz="-2.97037 -2.4887559 0.8584707"/>
      <geometry>
        <mesh filename="package://ant_description/meshes/femur_r_l.dae"/>
      </geometry>
    </collision>
    <visual>
      <origin rpy="0 0 0" xyz="-2.97037 -2.4887559 0.8584707"/>
      <geometry>
        <mesh filename="package://ant_description/meshes/femur_r_l.dae"/>
      </geometry>
    </visual>
    <inertial>
      <origin rpy="0 0 0" xyz="-0.04229401  5.9847164000e-01 -1.0237488000e-01"/>
      <mass value="5"/>
      <inertia ixx="6.5537052690e+00" ixy="-5.7615418246e+00" ixz="1.7949193563e+00" iyy="6.7640416562e+00" iyz="1.7889461762e+00" izz="1.1794042420e+01"/>
    </inertial>
  </link>
  <joint name="trochanter_femur_r_l" type="fixed">
    <parent link="trochanter_r_l"/>
    <child link="femur_r_l"/>
  </joint>
  <!-- tibia rear left link -->
  <link name="tibia_r_l">
    <collision>
      <origin rpy="0 0 -2.44346" xyz="0 0 -1.6"/>
      <geometry>
        <mesh filename="package://ant_description/meshes/tibia_r_l.dae"/>
      </geometry>
    </collision>
    <visual>
      <origin rpy="0 0 -2.44346" xyz="0 0 -1.6"/>
      <geometry>
        <mesh filename="package://ant_description/meshes/tibia_r_l.dae"/>
      </geometry>
    </visual>
    <inertial>
      <origin rpy="0 0 -2.44346" xyz="0.00756 0.24018 -1.90939386"/>
      <mass value="4"/>
      <inertia ixx="7.7173053799e+00" ixy="-5.2599828689e-02" ixz="-1.9881656369e-01" iyy="7.2343761778e+00" iyz="-1.9348606907e+00" izz="7.2286763244e-01"/>
    </inertial>
  </link>
  <joint name="j_3_r_l" type="revolute">
    <parent link="femur_r_l"/>
    <child link="tibia_r_l"/>
    <origin rpy="0 0 2.44346" xyz="-4.81788 -4.9756749 1.1238474"/>
    <axis xyz="1 0 0"/>
    <limit effort="10000" lower="0" upper="0.6" velocity="10000"/>
    <dynamics friction="500"/>
  </joint>
  <!-- tarsus rear left link -->
  <link name="tarsus_r_l">
    <collision>
      <origin rpy="0 0 -2.44346" xyz="-1.452104 1.655428 -5.6634428"/>
      <geometry>
        <mesh filename="package://ant_description/meshes/tarsus_r_l.dae"/>
      </geometry>
    </collision>
    <visual>
      <origin rpy="0 0 -2.44346" xyz="-1.452104 1.655428 -5.6634428"/>
      <geometry>
        <mesh filename="package://ant_description/meshes/tarsus_r_l.dae"/>
      </geometry>
    </visual>
    <inertial>
      <origin rpy="0 0 -2.44346" xyz="5.2596670000e-02 -3.5839279000e-01 -1.60963057"/>
      <mass value="2"/>
      <inertia ixx="3.3858868805e+00" ixy="7.6075774747e-02" ixz="9.0168570414e-02" iyy="1.9667853495e+00" iyz="-1.6554334105e+00" izz="1.4653702460e+00"/>
    </inertial>
  </link>
  <joint name="tibia_tarsus_r_l" type="fixed">
    <parent link="tibia_r_l"/>
    <child link="tarsus_r_l"/>
  </joint>
  <!-- cox rear right link -->
  <link name="cox_r_r">
    <collision>
      <origin rpy="0 0 0" xyz="0.5 -0.5 0"/>
      <geometry>
        <mesh filename="package://ant_description/meshes/cox_r_r.dae"/>
      </geometry>
    </collision>
    <visual>
      <origin rpy="0 0 0" xyz="0.5 -0.5 0"/>
      <geometry>
        <mesh filename="package://ant_description/meshes/cox_r_r.dae"/>
      </geometry>
    </visual>
    <inertial>
      <origin rpy="0 0 0" xyz="0.5558994 -0.58611938 -1.8706305000e-01"/>
      <mass value="3"/>
      <inertia ixx="9.7229680289e-01" ixy="2.5368497826e-01" ixz="4.4356865489e-02" iyy="8.9010367126e-01" iyz="3.1340777388e-02" izz="1.2001971705e+00"/>
    </inertial>
  </link>
  <joint name="j_1_r_r" type="revolute">
    <parent link="thorax"/>
    <child link="cox_r_r"/>
    <origin rpy="0 0 0" xyz="0.996461 2.346683 -0.5018439"/>
    <axis xyz="0 0 1"/>
    <limit effort="10000" lower="-0.25" upper="0.4" velocity="10000"/>
    <dynamics friction="500"/>
  </joint>
  <!-- trochanter rear right link -->
  <link name="trochanter_r_r">
    <collision>
      <origin rpy="0 0 0" xyz="0.5 0 0"/>
      <geometry>
        <mesh filename="package://ant_description/meshes/trochanter_r_r.dae"/>
      </geometry>
    </collision>
    <visual>
      <origin rpy="0 0 0" xyz="0.5 0 0"/>
      <geometry>
        <mesh filename="package://ant_description/meshes/trochanter_r_r.dae"/>
      </geometry>
    </visual>
    <inertial>
      <origin rpy="0 0 0" xyz="0.42571826  1.0669486000e-01 -3.1070070000e-02"/>
      <mass value="1"/>
      <inertia ixx="1.5073148763e-01" ixy="3.8447467658e-02" ixz="-1.2660324006e-02" iyy="1.2943070910e-01" iyz="3.4239571588e-04" izz="1.6587704941e-01"/>
    </inertial>
  </link>
  <joint name="j_2_r_r" type="revolute">
    <parent link="cox_r_r"/>
    <child link="trochanter_r_r"/>
    <origin rpy="0 0 0" xyz="0.955945 -1.6218341 0.1198297"/>
    <axis xyz="0 1 0"/>
    <limit effort="10000" lower="-0.6" upper="0.15" velocity="10000"/>
    <dynamics friction="500"/>
  </joint>
  <!-- femur rear right link -->
  <link name="femur_r_r">
    <collision>
      <origin rpy="0 0 0" xyz="2.97037 -2.4887559 0.8584707"/>
      <geometry>
        <mesh filename="package://ant_description/meshes/femur_r_r.dae"/>
      </geometry>
    </collision>
    <visual>
      <origin rpy="0 0 0" xyz="2.97037 -2.4887559 0.8584707"/>
      <geometry>
        <mesh filename="package://ant_description/meshes/femur_r_r.dae"/>
      </geometry>
    </visual>
    <inertial>
      <origin rpy="0 0 0" xyz="0.04229401  5.9847164000e-01 -1.0237488000e-01"/>
      <mass value="5"/>
      <inertia ixx="6.5537052690e+00" ixy="5.7615418246e+00" ixz="-1.7949193563e+00" iyy="6.7640416562e+00" iyz="1.7889461762e+00" izz="1.1794042420e+01"/>
    </inertial>
  </link>
  <joint name="trochanter_femur_r_r" type="fixed">
    <parent link="trochanter_r_r"/>
    <child link="femur_r_r"/>
  </joint>
  <!-- tibia rear right link -->
  <link name="tibia_r_r">
    <collision>
      <origin rpy="0 0 2.44346" xyz="0 0 -1.6"/>
      <geometry>
        <mesh filename="package://ant_description/meshes/tibia_r_r.dae"/>
      </geometry>
    </collision>
    <visual>
      <origin rpy="0 0 2.44346" xyz="0 0 -1.6"/>
      <geometry>
        <mesh filename="package://ant_description/meshes/tibia_r_r.dae"/>
      </geometry>
    </visual>
    <inertial>
      <origin rpy="0 0 2.44346" xyz="-0.00756 0.24018 -1.90939386"/>
      <mass value="4"/>
      <inertia ixx="7.7173053799e+00" ixy="5.2599828689e-02" ixz="1.9881656369e-01" iyy="7.2343761778e+00" iyz="-1.9348606907e+00" izz="7.2286763244e-01"/>
    </inertial>
  </link>
  <joint name="j_3_r_r" type="revolute">
    <parent link="femur_r_r"/>
    <child link="tibia_r_r"/>
    <origin rpy="0 0 -2.44346" xyz="4.81788 -4.9756749 1.1238474"/>
    <axis xyz="1 0 0"/>
    <limit effort="10000" lower="0" upper="0.6" velocity="10000"/>
    <dynamics friction="500"/>
  </joint>
  <!-- tarsus rear right link -->
  <link name="tarsus_r_r">
    <collision>
      <origin rpy="0 0 2.44346" xyz="1.452104 1.655428 -5.6634428"/>
      <geometry>
        <mesh filename="package://ant_description/meshes/tarsus_r_r.dae"/>
      </geometry>
    </collision>
    <visual>
      <origin rpy="0 0 2.44346" xyz="1.452104 1.655428 -5.6634428"/>
      <geometry>
        <mesh filename="package://ant_description/meshes/tarsus_r_r.dae"/>
      </geometry>
    </visual>
    <inertial>
      <origin rpy="0 0 2.44346" xyz="-5.2596670000e-02 -3.5839279000e-01 -1.60963057"/>
      <mass value="2"/>
      <inertia ixx="3.3858868805e+00" ixy="7.6075774747e-02" ixz="9.0168570414e-02" iyy="1.9667853495e+00" iyz="-1.6554334105e+00" izz="1.4653702460e+00"/>
    </inertial>
  </link>
  <joint name="tibia_tarsus_r_r" type="fixed">
    <parent link="tibia_r_r"/>
    <child link="tarsus_r_r"/>
  </joint>
  <transmission name="transm_f_l_1">
    <type>transmission_interface/SimpleTransmission</type>
    <joint name="j_1_f_l">
      <hardwareInterface>hardware_interface/EffortJointInterface</hardwareInterface>
    </joint>
    <actuator name="m_f_l_1">
      <hardwareInterface>hardware_interface/EffortJointInterface</hardwareInterface>
      <mechanicalReduction>1</mechanicalReduction>
    </actuator>
  </transmission>
  <transmission name="transm_f_l_2">
    <type>transmission_interface/SimpleTransmission</type>
    <joint name="j_2_f_l">
      <hardwareInterface>hardware_interface/EffortJointInterface</hardwareInterface>
    </joint>
    <actuator name="m_f_l_2">
      <hardwareInterface>hardware_interface/EffortJointInterface</hardwareInterface>
      <mechanicalReduction>1</mechanicalReduction>
    </actuator>
  </transmission>
  <transmission name="transm_f_l_3">
    <type>transmission_interface/SimpleTransmission</type>
    <joint name="j_3_f_l">
      <hardwareInterface>hardware_interface/EffortJointInterface</hardwareInterface>
    </joint>
    <actuator name="m_f_l_3">
      <hardwareInterface>hardware_interface/EffortJointInterface</hardwareInterface>
      <mechanicalReduction>1</mechanicalReduction>
    </actuator>
  </transmission>
  <transmission name="transm_f_r_1">
    <type>transmission_interface/SimpleTransmission</type>
    <joint name="j_1_f_r">
      <hardwareInterface>hardware_interface/EffortJointInterface</hardwareInterface>
    </joint>
    <actuator name="m_f_r_1">
      <hardwareInterface>hardware_interface/EffortJointInterface</hardwareInterface>
      <mechanicalReduction>1</mechanicalReduction>
    </actuator>
  </transmission>
  <transmission name="transm_f_r_2">
    <type>transmission_interface/SimpleTransmission</type>
    <joint name="j_2_f_r">
      <hardwareInterface>hardware_interface/EffortJointInterface</hardwareInterface>
    </joint>
    <actuator name="m_f_r_2">
      <hardwareInterface>hardware_interface/EffortJointInterface</hardwareInterface>
      <mechanicalReduction>1</mechanicalReduction>
    </actuator>
  </transmission>
  <transmission name="transm_f_r_3">
    <type>transmission_interface/SimpleTransmission</type>
    <joint name="j_3_f_r">
      <hardwareInterface>hardware_interface/EffortJointInterface</hardwareInterface>
    </joint>
    <actuator name="m_f_r_3">
      <hardwareInterface>hardware_interface/EffortJointInterface</hardwareInterface>
      <mechanicalReduction>1</mechanicalReduction>
    </actuator>
  </transmission>
  <transmission name="transm_m_l_1">
    <type>transmission_interface/SimpleTransmission</type>
    <joint name="j_1_m_l">
      <hardwareInterface>hardware_interface/EffortJointInterface</hardwareInterface>
    </joint>
    <actuator name="m_m_l_1">
      <hardwareInterface>hardware_interface/EffortJointInterface</hardwareInterface>
      <mechanicalReduction>1</mechanicalReduction>
    </actuator>
  </transmission>
  <transmission name="transm_m_l_2">
    <type>transmission_interface/SimpleTransmission</type>
    <joint name="j_2_m_l">
      <hardwareInterface>hardware_interface/EffortJointInterface</hardwareInterface>
    </joint>
    <actuator name="m_m_l_2">
      <hardwareInterface>hardware_interface/EffortJointInterface</hardwareInterface>
      <mechanicalReduction>1</mechanicalReduction>
    </actuator>
  </transmission>
  <transmission name="transm_m_l_3">
    <type>transmission_interface/SimpleTransmission</type>
    <joint name="j_3_m_l">
      <hardwareInterface>hardware_interface/EffortJointInterface</hardwareInterface>
    </joint>
    <actuator name="m_m_l_3">
      <hardwareInterface>hardware_interface/EffortJointInterface</hardwareInterface>
      <mechanicalReduction>1</mechanicalReduction>
    </actuator>
  </transmission>
  <transmission name="transm_m_r_1">
    <type>transmission_interface/SimpleTransmission</type>
    <joint name="j_1_m_r">
      <hardwareInterface>hardware_interface/EffortJointInterface</hardwareInterface>
    </joint>
    <actuator name="m_m_l_r">
      <hardwareInterface>hardware_interface/EffortJointInterface</hardwareInterface>
      <mechanicalReduction>1</mechanicalReduction>
    </actuator>
  </transmission>
  <transmission name="transm_m_r_2">
    <type>transmission_interface/SimpleTransmission</type>
    <joint name="j_2_m_r">
      <hardwareInterface>hardware_interface/EffortJointInterface</hardwareInterface>
    </joint>
    <actuator name="m_m_r_2">
      <hardwareInterface>hardware_interface/EffortJointInterface</hardwareInterface>
      <mechanicalReduction>1</mechanicalReduction>
    </actuator>
  </transmission>
  <transmission name="transm_m_r_3">
    <type>transmission_interface/SimpleTransmission</type>
    <joint name="j_3_m_r">
      <hardwareInterface>hardware_interface/EffortJointInterface</hardwareInterface>
    </joint>
    <actuator name="m_m_r_3">
      <hardwareInterface>hardware_interface/EffortJointInterface</hardwareInterface>
      <mechanicalReduction>1</mechanicalReduction>
    </actuator>
  </transmission>
  <transmission name="transm_r_l_1">
    <type>transmission_interface/SimpleTransmission</type>
    <joint name="j_1_r_l">
      <hardwareInterface>hardware_interface/EffortJointInterface</hardwareInterface>
    </joint>
    <actuator name="m_r_l_1">
      <hardwareInterface>hardware_interface/EffortJointInterface</hardwareInterface>
      <mechanicalReduction>1</mechanicalReduction>
    </actuator>
  </transmission>
  <transmission name="transm_r_l_2">
    <type>transmission_interface/SimpleTransmission</type>
    <joint name="j_2_r_l">
      <hardwareInterface>hardware_interface/EffortJointInterface</hardwareInterface>
    </joint>
    <actuator name="m_r_l_2">
      <hardwareInterface>hardware_interface/EffortJointInterface</hardwareInterface>
      <mechanicalReduction>1</mechanicalReduction>
    </actuator>
  </transmission>
  <transmission name="transm_r_l_3">
    <type>transmission_interface/SimpleTransmission</type>
    <joint name="j_3_r_l">
      <hardwareInterface>hardware_interface/EffortJointInterface</hardwareInterface>
    </joint>
    <actuator name="m_r_l_3">
      <hardwareInterface>hardware_interface/EffortJointInterface</hardwareInterface>
      <mechanicalReduction>1</mechanicalReduction>
    </actuator>
  </transmission>
  <transmission name="transm_r_r_1">
    <type>transmission_interface/SimpleTransmission</type>
    <joint name="j_1_r_r">
      <hardwareInterface>hardware_interface/EffortJointInterface</hardwareInterface>
    </joint>
    <actuator name="m_r_r_1">
      <hardwareInterface>hardware_interface/EffortJointInterface</hardwareInterface>
      <mechanicalReduction>1</mechanicalReduction>
    </actuator>
  </transmission>
  <transmission name="transm_r_r_2">
    <type>transmission_interface/SimpleTransmission</type>
    <joint name="j_2_r_r">
      <hardwareInterface>hardware_interface/EffortJointInterface</hardwareInterface>
    </joint>
    <actuator name="m_r_r_2">
      <hardwareInterface>hardware_interface/EffortJointInterface</hardwareInterface>
      <mechanicalReduction>1</mechanicalReduction>
    </actuator>
  </transmission>
  <transmission name="transm_r_r_3">
    <type>transmission_interface/SimpleTransmission</type>
    <joint name="j_3_r_r">
      <hardwareInterface>hardware_interface/EffortJointInterface</hardwareInterface>
    </joint>
    <actuator name="m_r_r_3">
      <hardwareInterface>hardware_interface/EffortJointInterface</hardwareInterface>
      <mechanicalReduction>1</mechanicalReduction>
    </actuator>
  </transmission>
  <!--   <gazebo reference="eye_l">  
    <material>Gazebo/Orange</material>
  </gazebo> -->
  <gazebo reference="tarsus_f_l">
    <mu1>10000</mu1>
    <mu2>10000</mu2>
  </gazebo>
  <gazebo reference="tarsus_f_r">
    <mu1>10000</mu1>
    <mu2>10000</mu2>
  </gazebo>
  <gazebo reference="tarsus_m_l">
    <mu1>10000</mu1>
    <mu2>10000</mu2>
  </gazebo>
  <gazebo reference="tarsus_m_r">
    <mu1>10000</mu1>
    <mu2>10000</mu2>
  </gazebo>
  <gazebo reference="tarsus_r_r">
    <mu1>10000</mu1>
    <mu2>10000</mu2>
  </gazebo>
  <gazebo reference="tarsus_r_l">
    <mu1>10000</mu1>
    <mu2>10000</mu2>
  </gazebo>
  <material name="black">
    <color rgba="0.0 0.0 0.0 1.0"/>
  </material>
  <material name="grey">
    <color rgba="0.2 0.2 0.2 1.0"/>
  </material>
  <material name="brown">
    <color rgba="0.870588235294 0.811764705882 0.764705882353 1.0"/>
  </material>
  <gazebo>
    <plugin filename="libgazebo_ros_control.so" name="gazebo_ros_control">
      <robotNamespace>/ant</robotNamespace>
    </plugin>
  </gazebo>
</robot>
